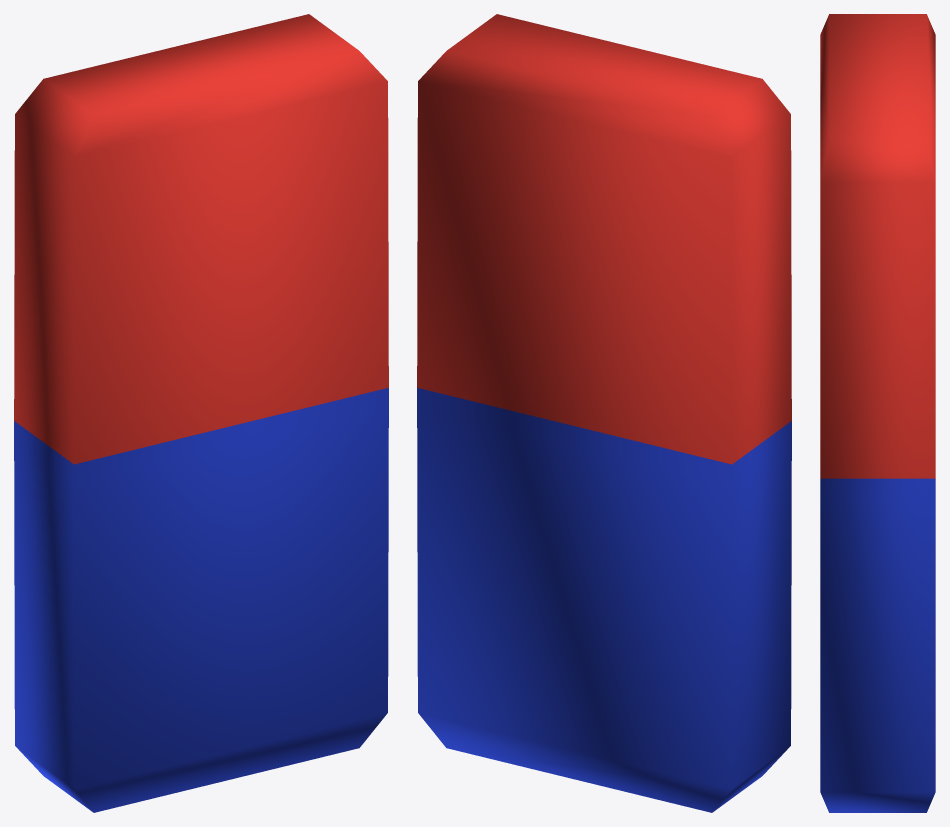
The model's file is MagnetMesh.fbx.
The picture shows the model from 3 angles, left to right: view 1: azimuth 30°, elevation 25°; view 2: azimuth 150°, elevation 25°; view 3: azimuth 270°, elevation 25°; orthographic projection. The views are drawn at different scales.
Visible parts, largest first — view 1: Cube; view 2: Cube; view 3: Cube.
Boxes of the visible parts, <box> form: Cube: <box>14,14,388,812</box>; Cube: <box>417,14,791,812</box>; Cube: <box>820,14,935,812</box>.
Bounding box in the file's own units: 212 × 449 × 69.85.
